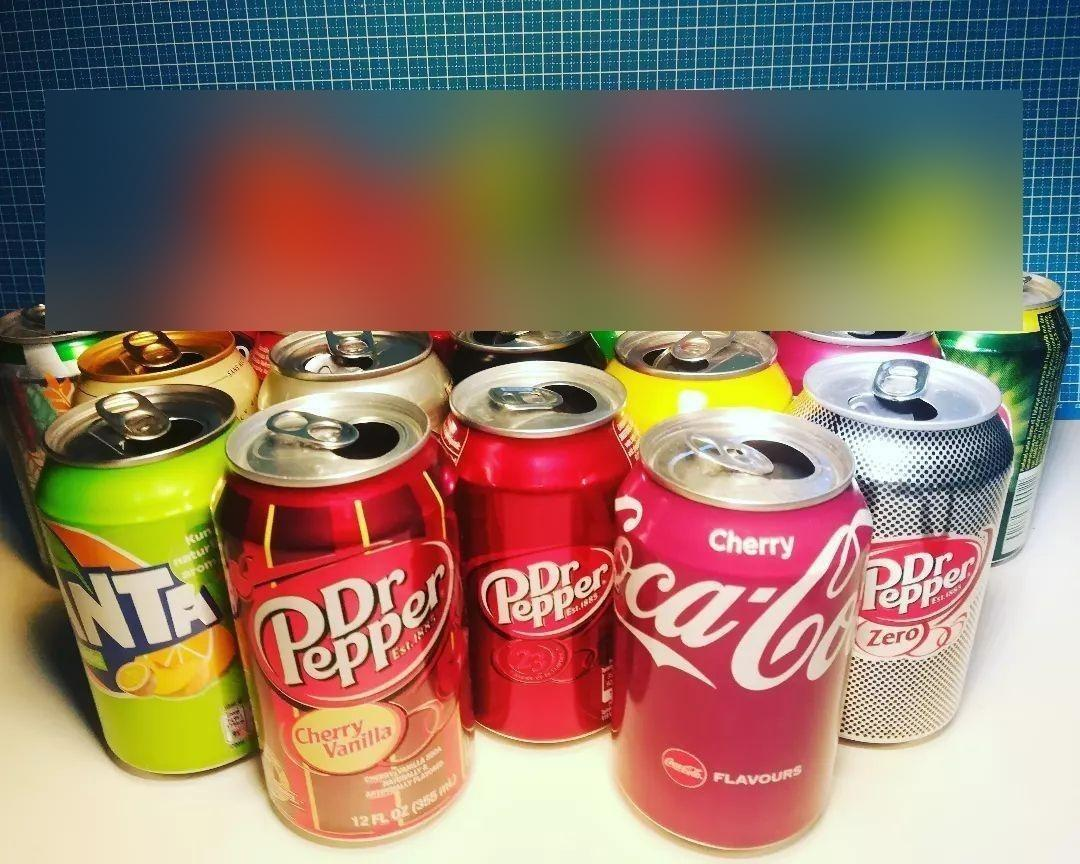tin can: (609, 414, 870, 864), (222, 384, 471, 832), (21, 377, 276, 780), (812, 349, 1016, 754), (451, 364, 636, 748)
